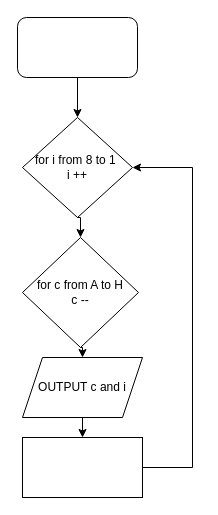
Some shapes in this 218 by 515 pixel diagram are drawn without their labels. Here are the shapes that lost their labels. From the top down, the box of each, then its label:
(16, 16, 138, 78): rows. i coloumns: c
(22, 436, 142, 498): new line
